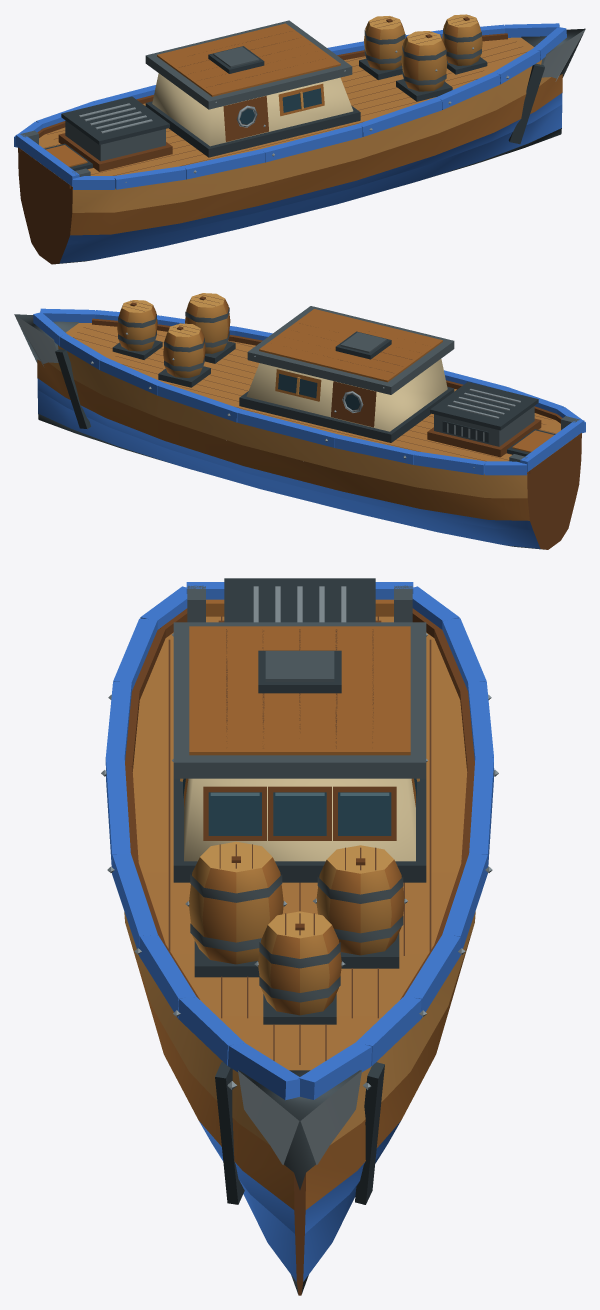
The picture shows the model from 3 angles, top to bottom: view 1: azimuth 30°, elevation 25°; view 2: azimuth 150°, elevation 25°; view 3: azimuth 270°, elevation 25°; orthographic projection. The views are drawn at different scales.
Visible parts, largest first — view 1: 圣战者 / Crusader; view 2: 圣战者 / Crusader; view 3: 圣战者 / Crusader.
Part boxes in pixels (bbox=[...]): 圣战者 / Crusader: bbox=[14, 14, 585, 264]; 圣战者 / Crusader: bbox=[14, 293, 585, 549]; 圣战者 / Crusader: bbox=[101, 578, 498, 1295].
Size of the model in its own units: 1.2 by 0.3435 by 0.3816.
